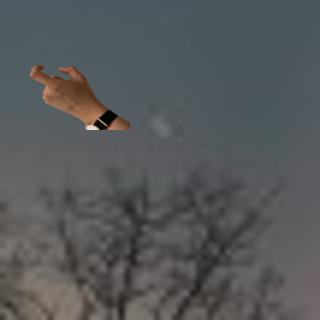HATE: (27, 59, 95, 118)
